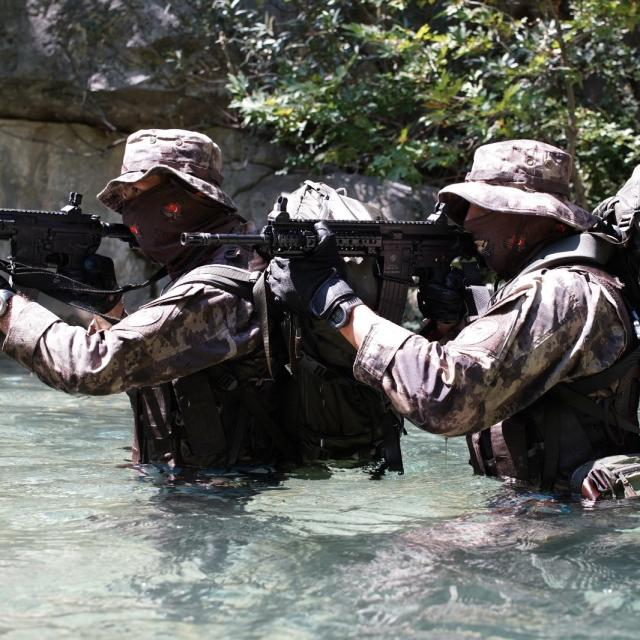poh_personel: (311, 137, 640, 500), (2, 126, 288, 473)
